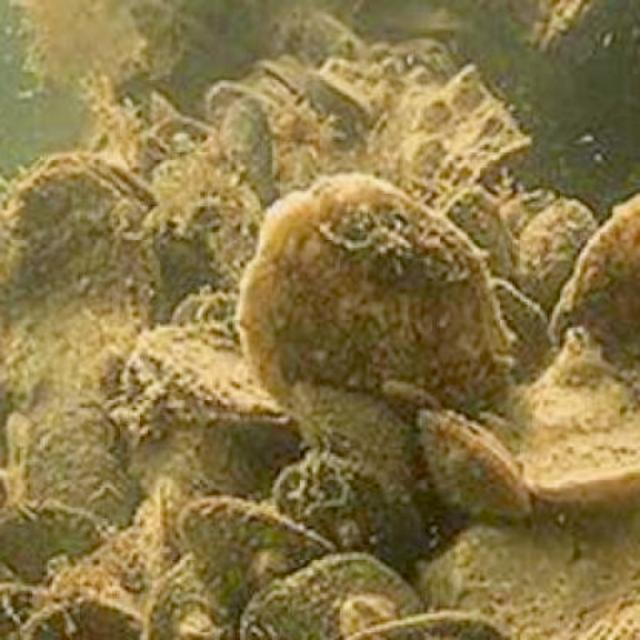Oyster-Closed: (244, 177, 515, 427), (4, 160, 160, 373), (165, 488, 337, 620), (16, 391, 147, 535), (517, 357, 638, 502), (238, 549, 429, 638), (135, 325, 282, 430), (552, 203, 638, 371), (413, 408, 534, 523)
